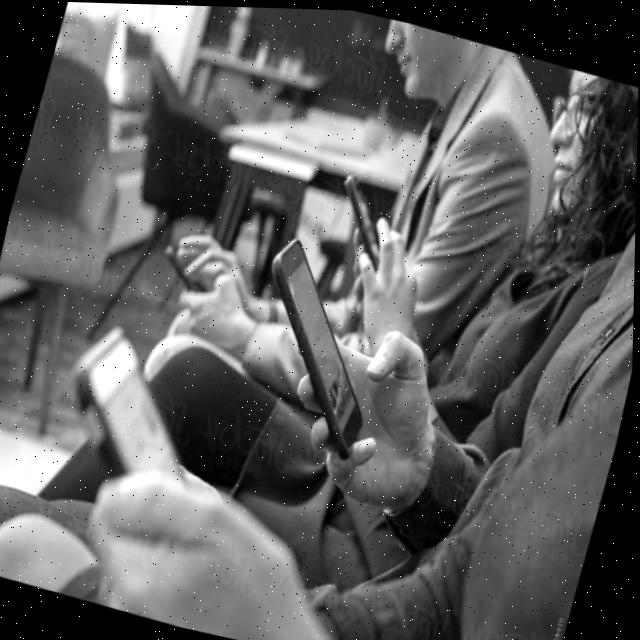phone: (227, 227, 409, 465), (49, 313, 226, 498), (323, 168, 404, 272), (156, 241, 222, 296)
